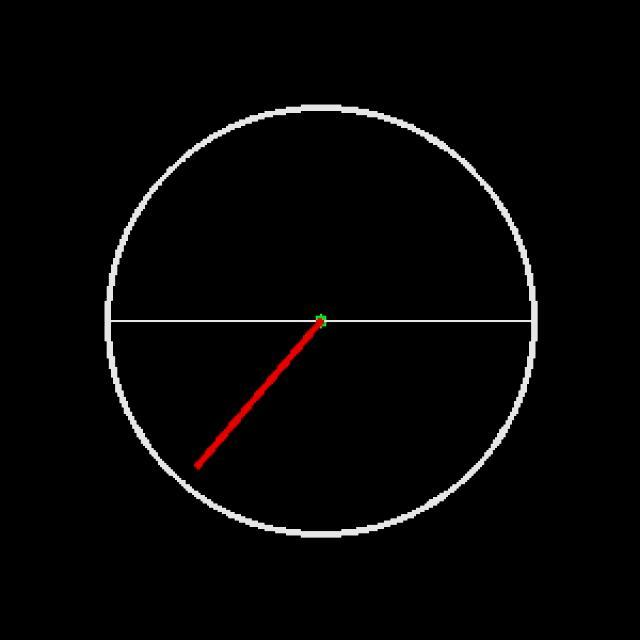Needle_Tip: (172, 424, 233, 499)
Needle_base: (287, 280, 361, 366)
